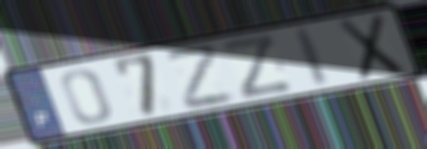0: (58, 67, 114, 125)
7: (108, 52, 164, 120)
I: (291, 24, 334, 89)
X: (334, 11, 408, 84)
Z: (218, 31, 297, 103), (163, 40, 238, 112)
